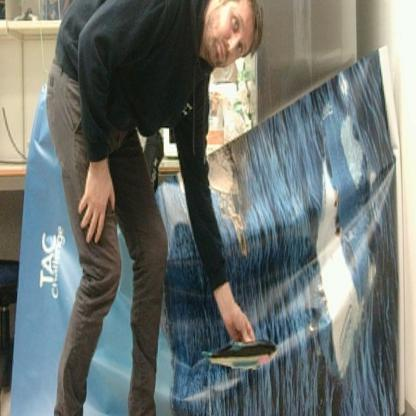rubberfish: (201, 338, 282, 374)
